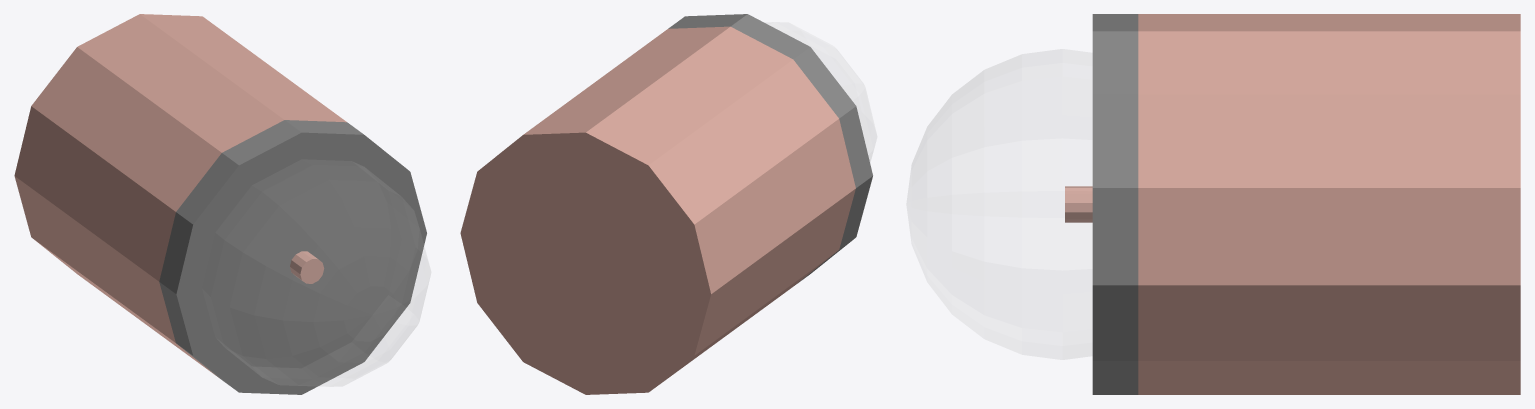
The model's file is LightSmallCorridorAsset.fbx.
The picture shows the model from 3 angles, left to right: view 1: azimuth 30°, elevation 25°; view 2: azimuth 150°, elevation 25°; view 3: azimuth 270°, elevation 25°; orthographic projection. The views are drawn at different scales.
Visible parts, largest first — view 1: Cylinder.001; view 2: Cylinder.001; view 3: Cylinder.001.
Boxes of the visible parts, <box> form: Cylinder.001: <box>14,14,430,394</box>; Cylinder.001: <box>460,14,876,394</box>; Cylinder.001: <box>907,14,1520,394</box>.
Size of the model in its own units: 24.47 by 24.47 by 39.32.
